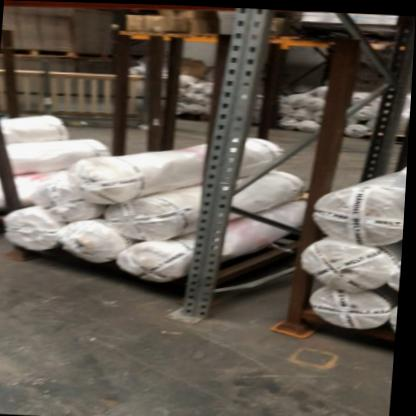vertical_damage: (167, 288, 229, 335)
